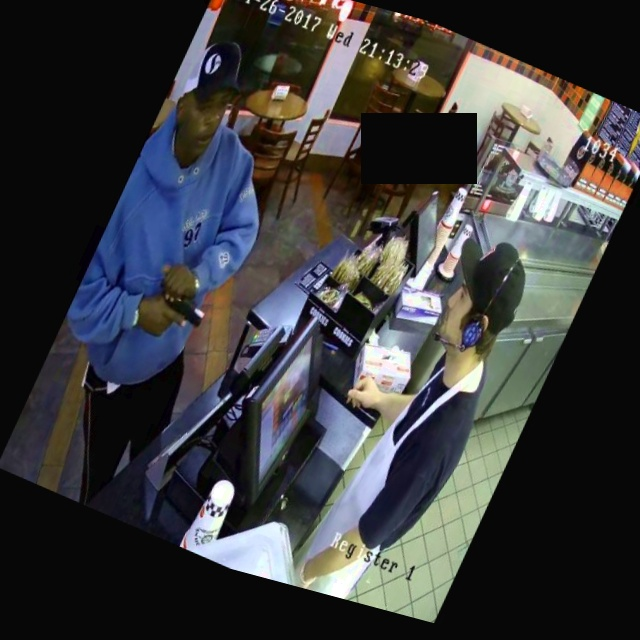gun: (126, 251, 235, 353)
